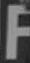Parking: (0, 2, 27, 57)
